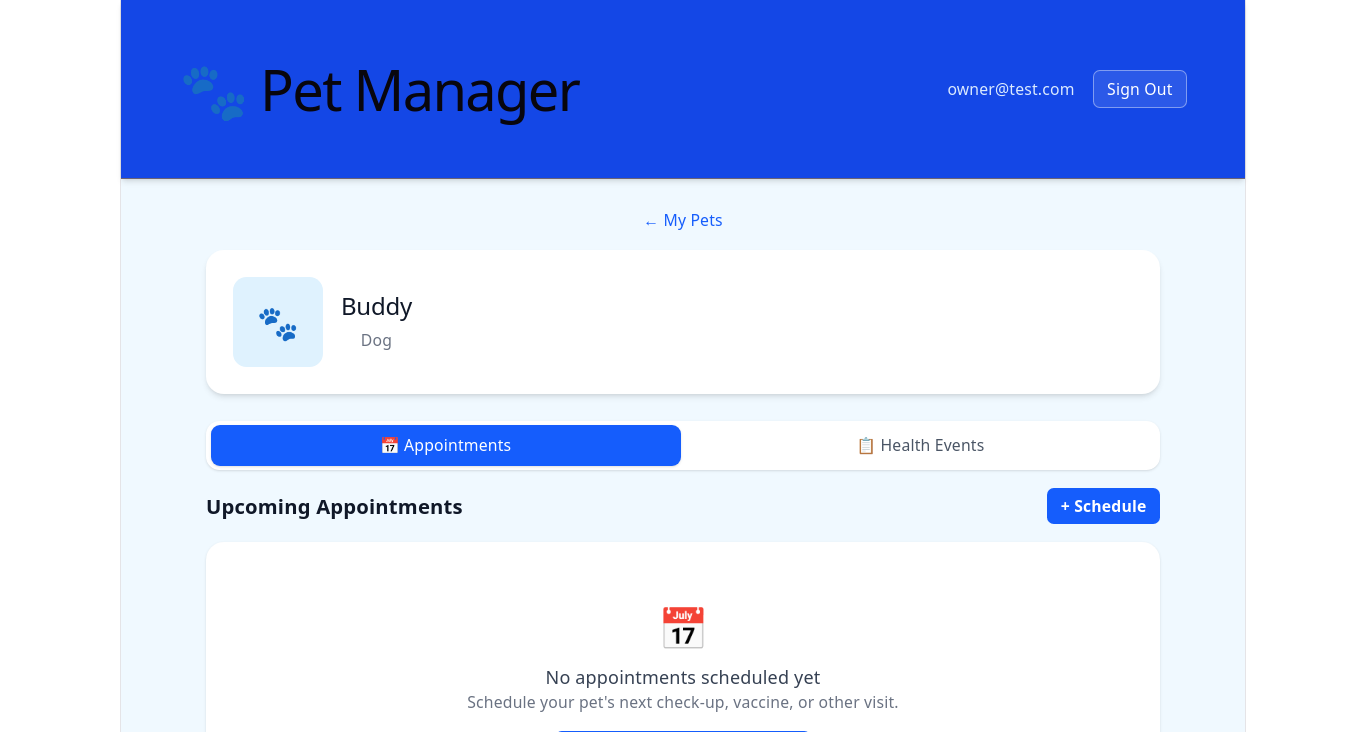
Scenario: PetDetailPage › switches to Events tab and shows empty state
Check: the text "No appointments scheduled yet" is shown, box [546,664,820,691]
Click the button "📋 Health Events". click: (920, 446)
box: [685,425,1156,466]
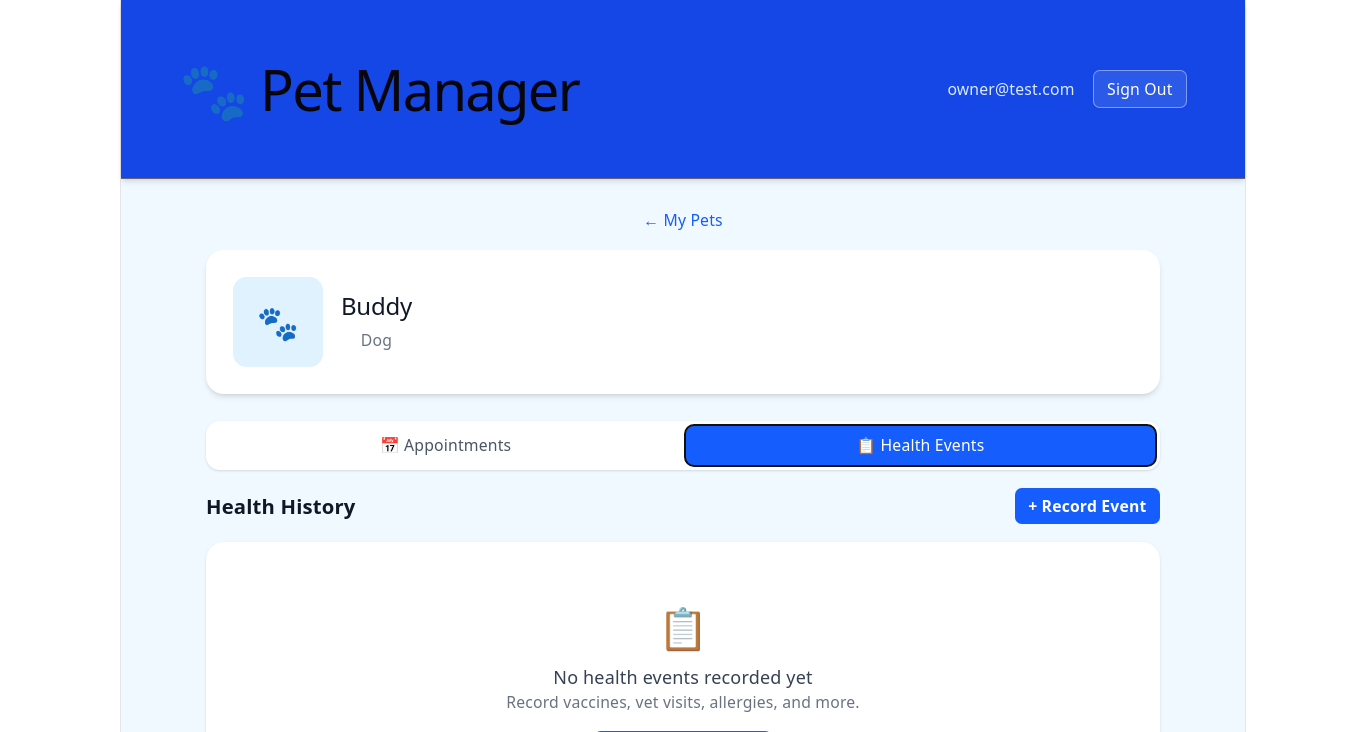
Check: the text "No health events recorded yet" is shown, box [553,664,813,691]
